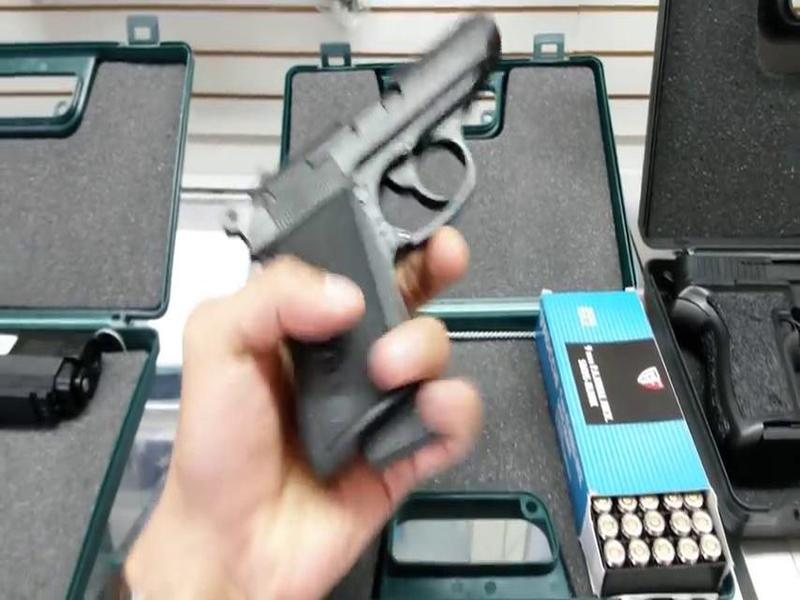Pistola: (206, 11, 516, 457)
